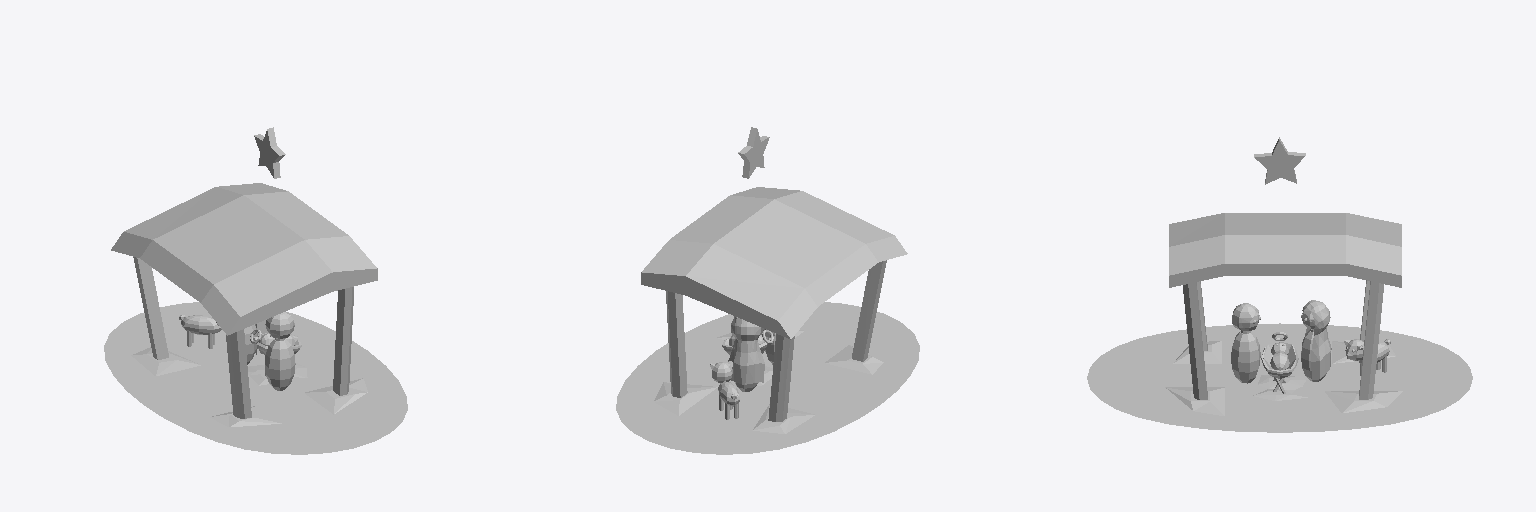
The model's file is nativity.obj.
The picture shows the model from 3 angles: view 1: azimuth 30°, elevation 25°; view 2: azimuth 150°, elevation 25°; view 3: azimuth 270°, elevation 25°; orthographic projection.
Visible parts, largest first — view 1: Floor_Plane; view 2: Floor_Plane; view 3: Floor_Plane.
Boxes of the visible parts, <box> form: Floor_Plane: <box>104,127,407,454</box>; Floor_Plane: <box>616,127,919,454</box>; Floor_Plane: <box>1087,137,1472,432</box>.
Bounding box in the file's own units: 28.01 × 29.76 × 41.82.